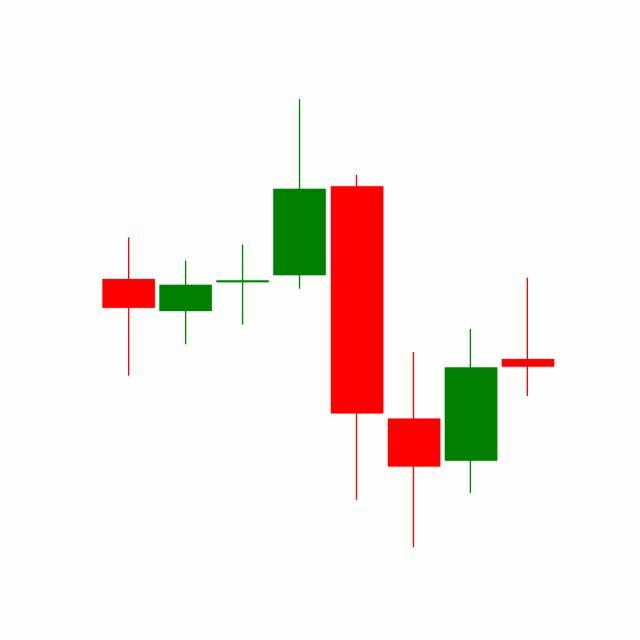Upside-Downside Gap Three Methods: (328, 170, 500, 548)
